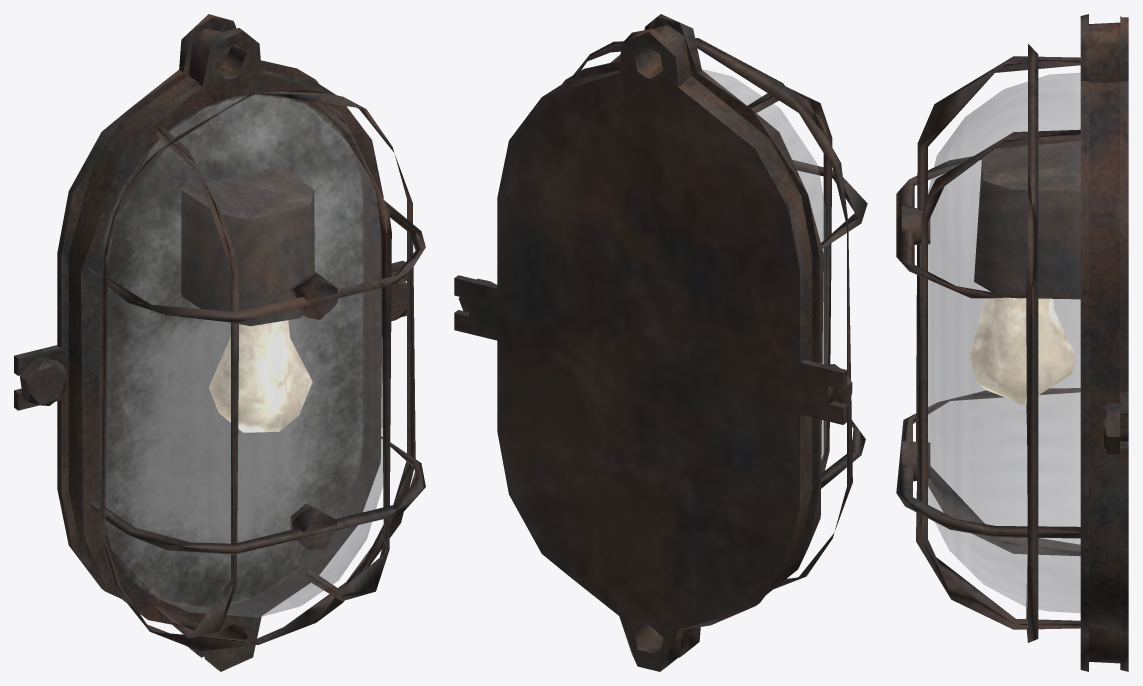
Rendered from industrial_wall_lamp.glb.
3 renders of one model, left to right at view 1: azimuth 30°, elevation 25°; view 2: azimuth 150°, elevation 25°; view 3: azimuth 270°, elevation 25°, orthographic.
Visible parts, largest first — view 1: industrial_wall_lamp; view 2: industrial_wall_lamp; view 3: industrial_wall_lamp.
Boxes of the visible parts, <box> form: industrial_wall_lamp: <box>14,14,425,671</box>; industrial_wall_lamp: <box>454,14,867,671</box>; industrial_wall_lamp: <box>896,14,1128,671</box>.
Size of the model in its own units: 0.2735 by 0.4283 by 0.139.
2 materials, 2 textured.
